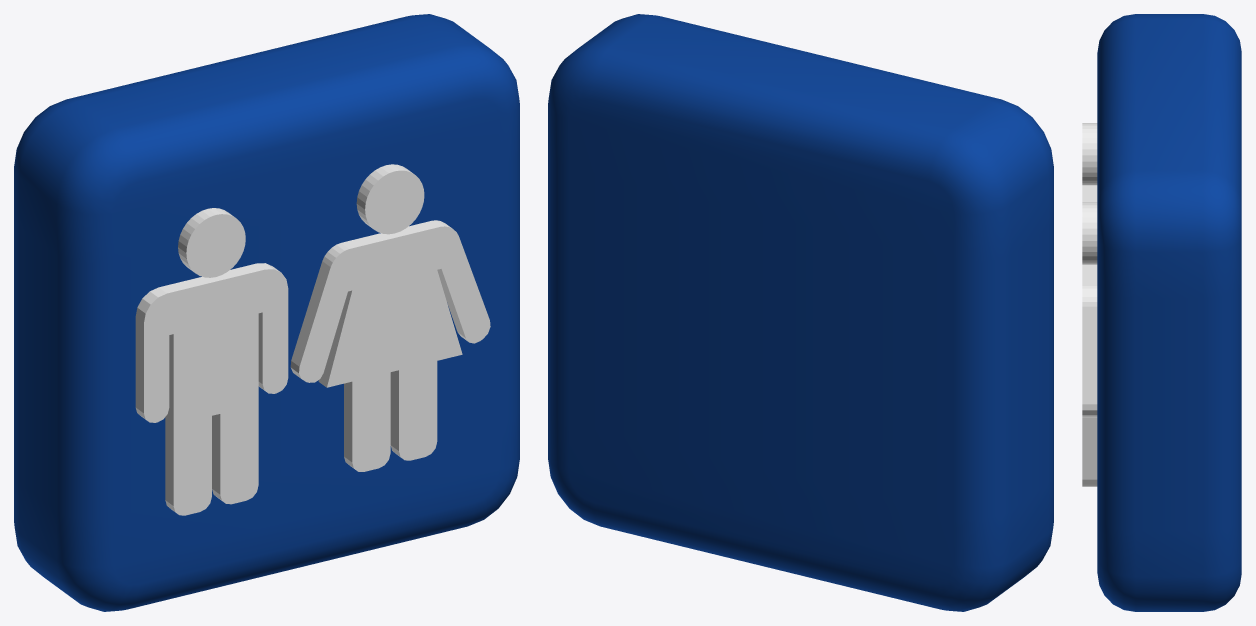
Rendered from restroom.glb.
3 renders of one model, left to right at view 1: azimuth 30°, elevation 25°; view 2: azimuth 150°, elevation 25°; view 3: azimuth 270°, elevation 25°, orthographic. The views are drawn at different scales.
Visible parts, largest first — view 1: Cube.146; view 2: Cube.146; view 3: Cube.146.
Boxes of the visible parts, x1,y1,x2,y2 form: Cube.146: (14,14,519,611); Cube.146: (548,14,1053,611); Cube.146: (1082,14,1241,611).
Bounding box in the file's own units: 2.2 × 2.2 × 0.7298.
1 material, 1 textured.
